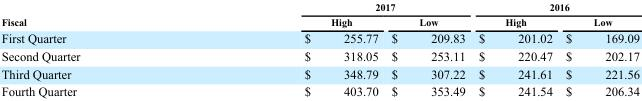table: (0, 1, 639, 97)
table column: (191, 1, 384, 97), (0, 1, 191, 97), (384, 1, 471, 97), (471, 1, 558, 97), (558, 1, 639, 97)
table column header: (0, 1, 639, 29)
table row: (0, 46, 639, 64), (0, 64, 639, 82), (0, 29, 639, 46), (0, 14, 639, 29), (0, 82, 639, 97), (0, 1, 639, 14)
table spanning cell: (0, 1, 191, 29), (191, 1, 471, 14), (471, 1, 639, 14)
